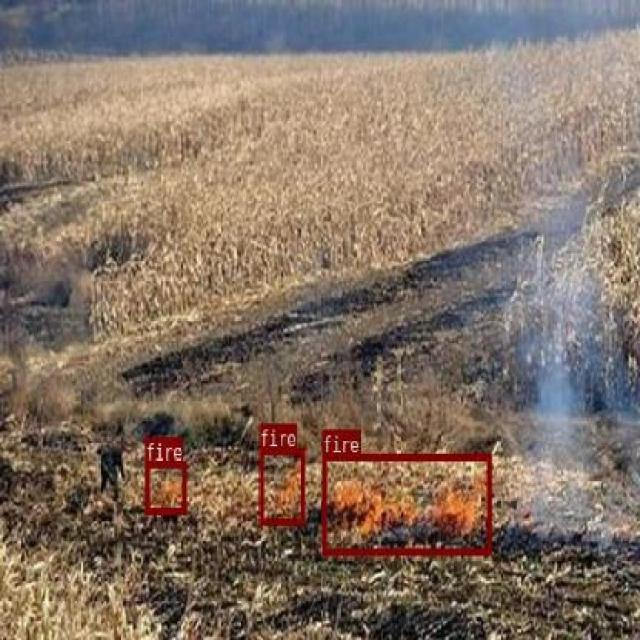CIV_Plane: (258, 446, 304, 523), (144, 461, 187, 514)
Fire: (169, 102, 406, 504), (258, 446, 304, 523), (144, 461, 187, 514)
